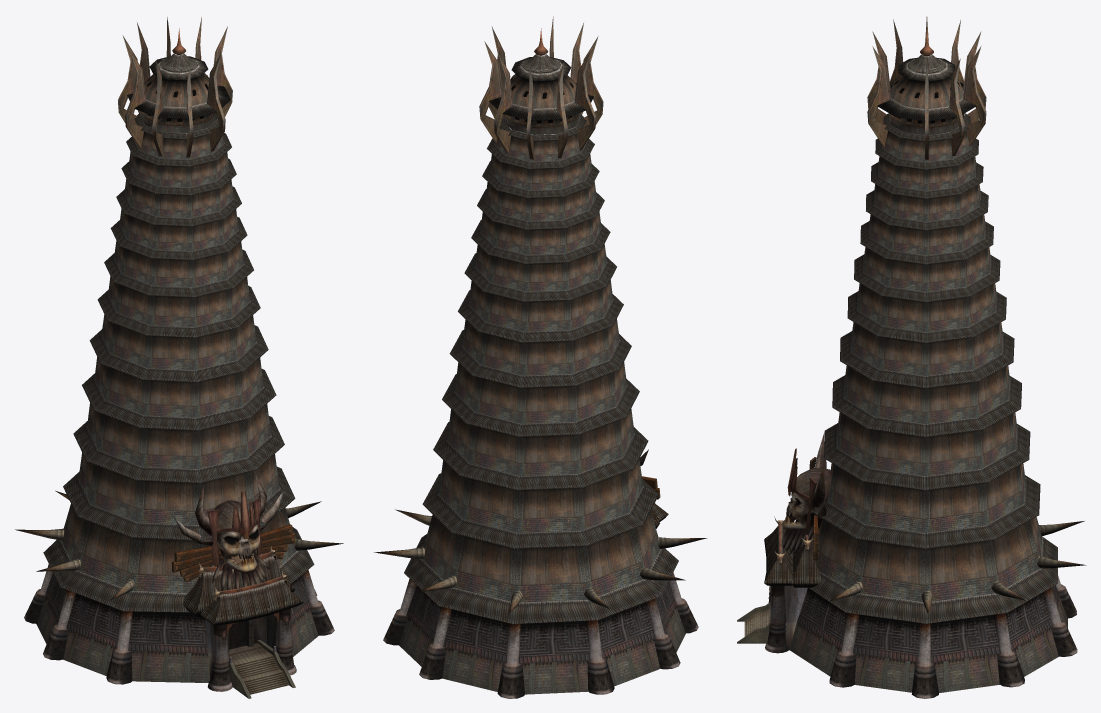
File: deviltowergate.glb
3 renders of one model, left to right at view 1: azimuth 30°, elevation 25°; view 2: azimuth 150°, elevation 25°; view 3: azimuth 270°, elevation 25°, orthographic.
Visible parts, largest first — view 1: deviltowergate; view 2: deviltowergate; view 3: deviltowergate.
Part boxes in pixels (x1=…): deviltowergate: x1=15, y1=17, x2=343, y2=698; deviltowergate: x1=374, y1=16, x2=707, y2=698; deviltowergate: x1=737, y1=16, x2=1086, y2=698.
Size of the model in its own units: 62.45 by 124 by 65.09.
Materials: 5 (5 with a texture image).
